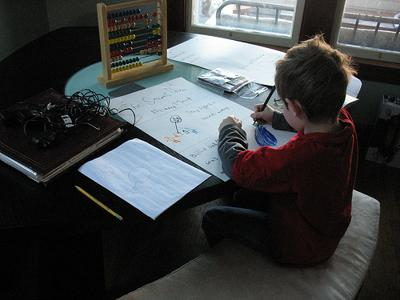person: (202, 39, 358, 268)
